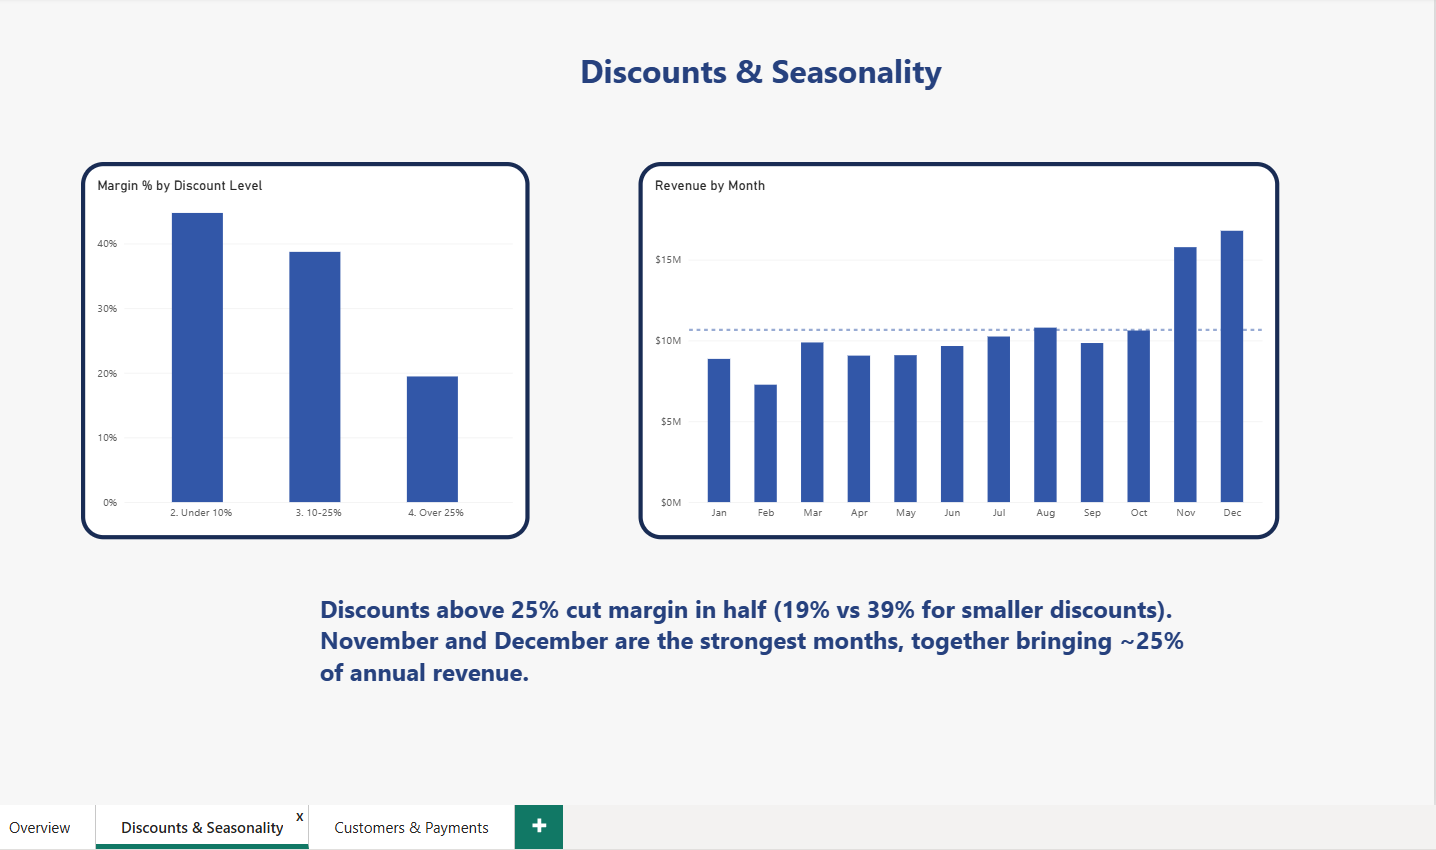

The page's visual inventory and layout, read from the dashboard file:
{"tool":"powerbi","page":{"name":"Discounts & Seasonality","canvas":[1920,1080],"ordinal":1},"visuals":[{"type":"textbox","box":[738.9,67.9,564,94.7],"z":0},{"type":"clusteredColumnChart","title":"Margin % by Discount Level","fields":{"Category":["public fact_sales.Discount Band"],"Y":["public fact_sales.Margin %"]},"box":[113.2,220.2,599,504.3],"z":1000},{"type":"clusteredColumnChart","title":"Revenue by Month","fields":{"Category":["public fact_sales.Month Name"],"Y":["public fact_sales.Revenue"]},"box":[858.3,220.2,856.3,504.3],"z":2000},{"type":"textbox","box":[432.2,794.5,1163,191.4],"z":3000}]}

Visuals, with their boxes on the page's 1920x1080 design canvas (x1, y1, x2, y2). These are canvas units, not pixel positions in the 1436x850 screenshot, which may show the page scaled, cropped or inside an application window:
textbox: [739, 68, 1303, 163]
"Margin % by Discount Level" clusteredColumnChart: [113, 220, 712, 724]
"Revenue by Month" clusteredColumnChart: [858, 220, 1715, 724]
textbox: [432, 794, 1595, 986]
